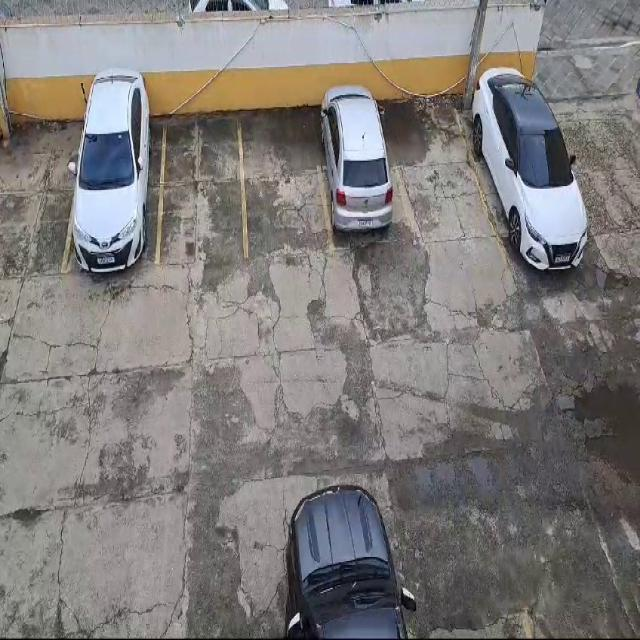empty: (381, 97, 501, 247), (237, 108, 332, 256), (159, 110, 246, 264)
notEmpty: (453, 95, 591, 248), (313, 99, 419, 251), (63, 115, 164, 269)
